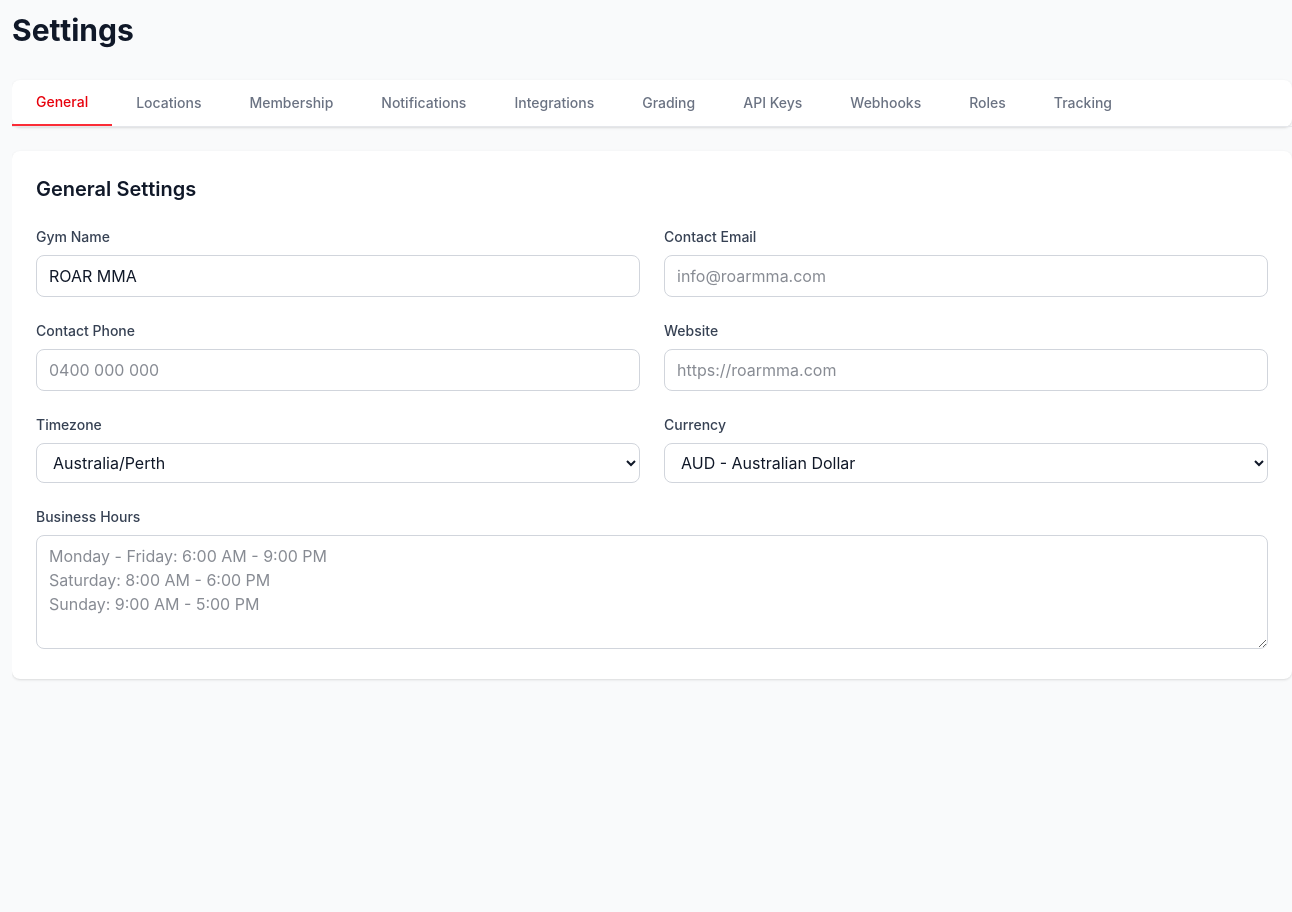
Scenario: Settings Page › switches to Webhooks tab and shows webhook content
This screenshot has width=1292, height=912.
Click the button "Webhooks" at (886, 103), box [826, 80, 945, 126]
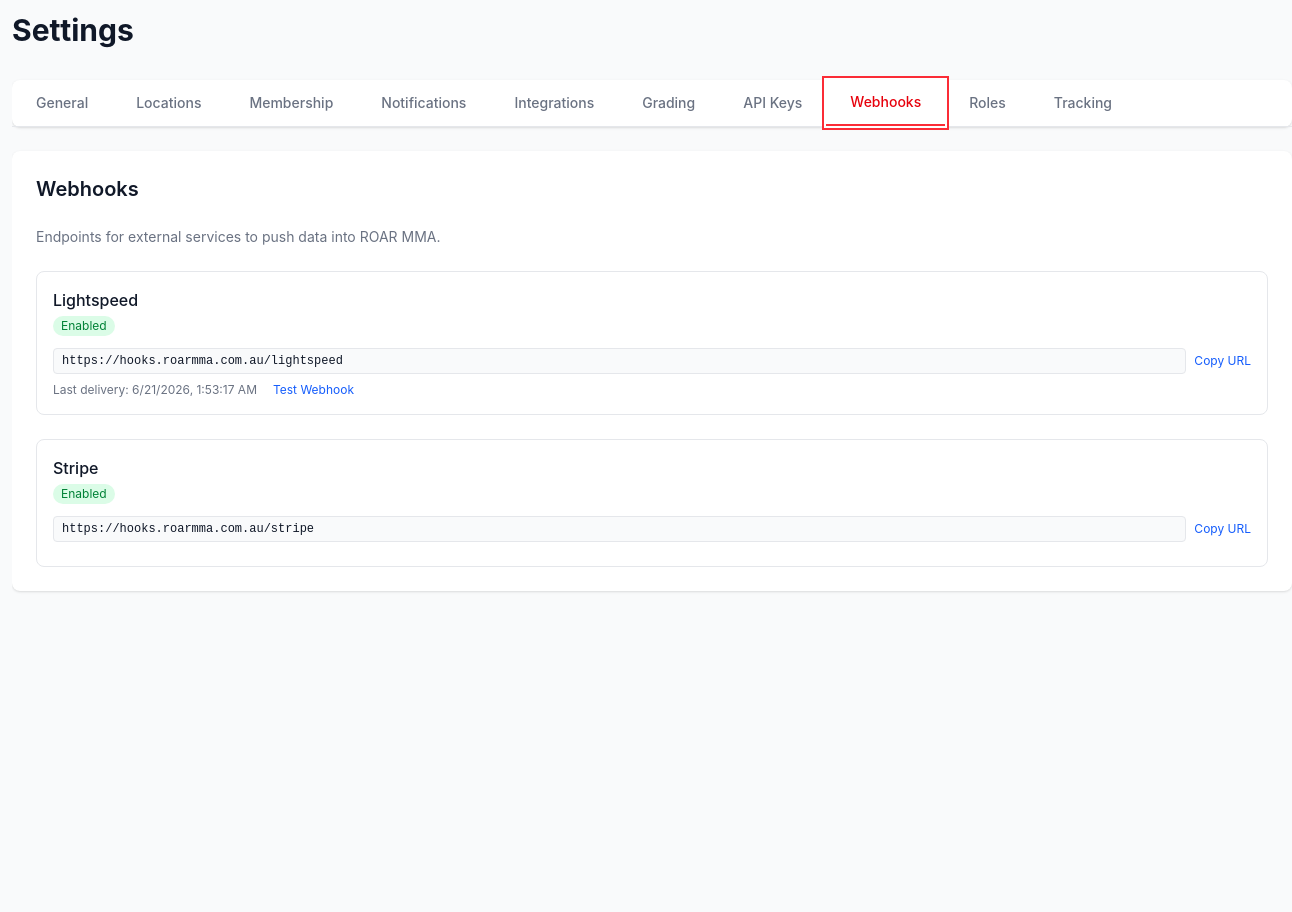
Result: the button "Test Webhook" is shown at [273, 382, 354, 398]
